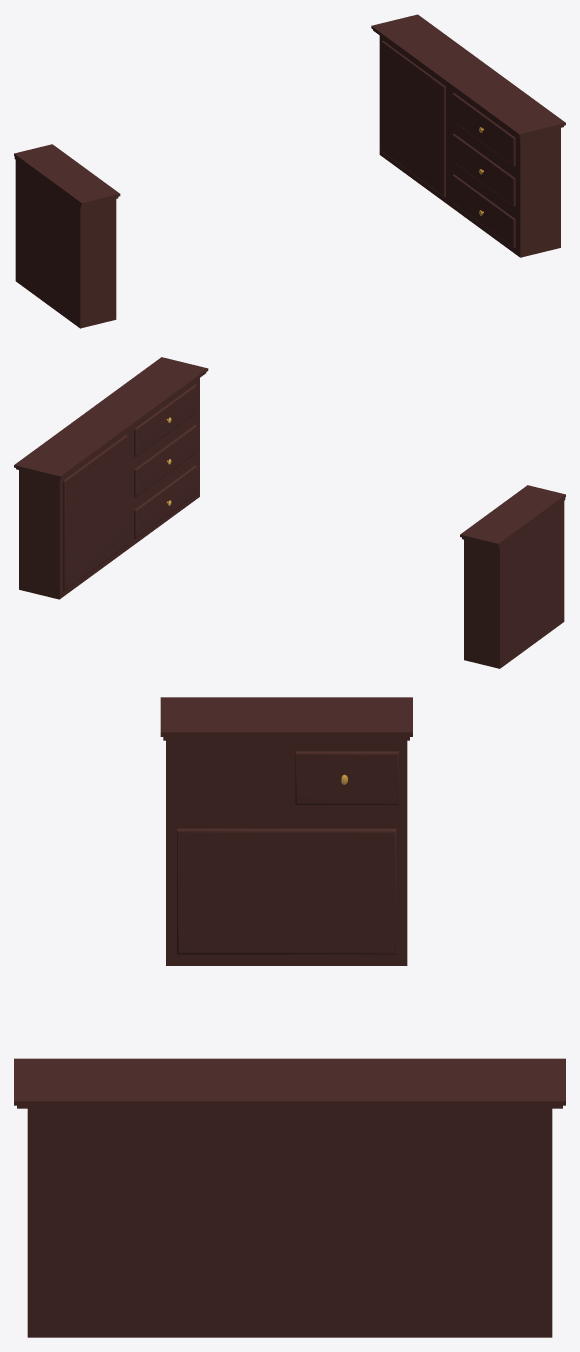
Rendered from Muebles.obj.
3 views of the same model, one above another, from view 1: azimuth 30°, elevation 25°; view 2: azimuth 150°, elevation 25°; view 3: azimuth 270°, elevation 25° (orthographic). The views are drawn at different scales.
Visible parts, largest first — view 1: Muebles:pasted__Mueble2, Muebles:pasted__Mueble4; view 2: Muebles:pasted__Mueble2, Muebles:pasted__Mueble4; view 3: Muebles:pasted__Mueble2, Muebles:pasted__Mueble4.
Part boxes in pixels (x1,y1,x2,y2): Muebles:pasted__Mueble2: (371,14,565,257); Muebles:pasted__Mueble4: (14,144,120,328); Muebles:pasted__Mueble2: (14,357,208,599); Muebles:pasted__Mueble4: (460,485,565,668); Muebles:pasted__Mueble2: (14,1058,565,1337); Muebles:pasted__Mueble4: (160,697,412,965).
Bounding box in the file's own units: 5.13 × 1.4 × 2.96.
Materials: 4 (4 with a texture image).
